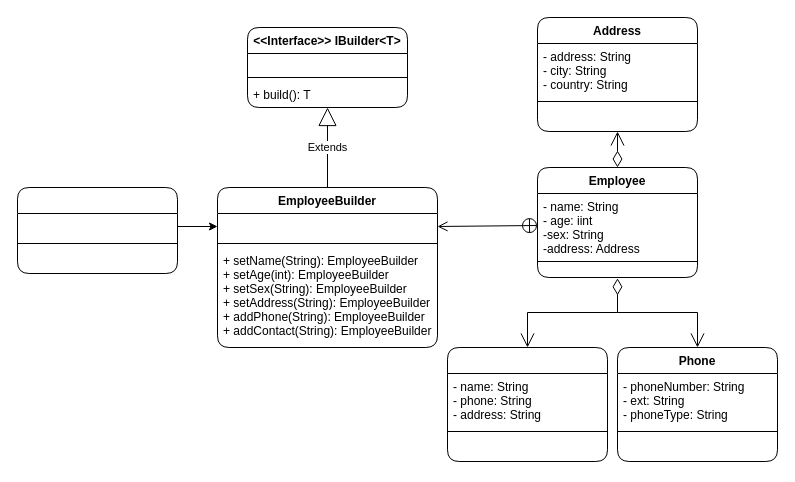
Some shapes in this 795 by 482 pixel diagram are drawn without their labels. Here are the shapes that lost their labels. From the top down, the box of each, then its label:
(16, 186, 178, 274): BuilderMain
(446, 346, 608, 462): Contact
